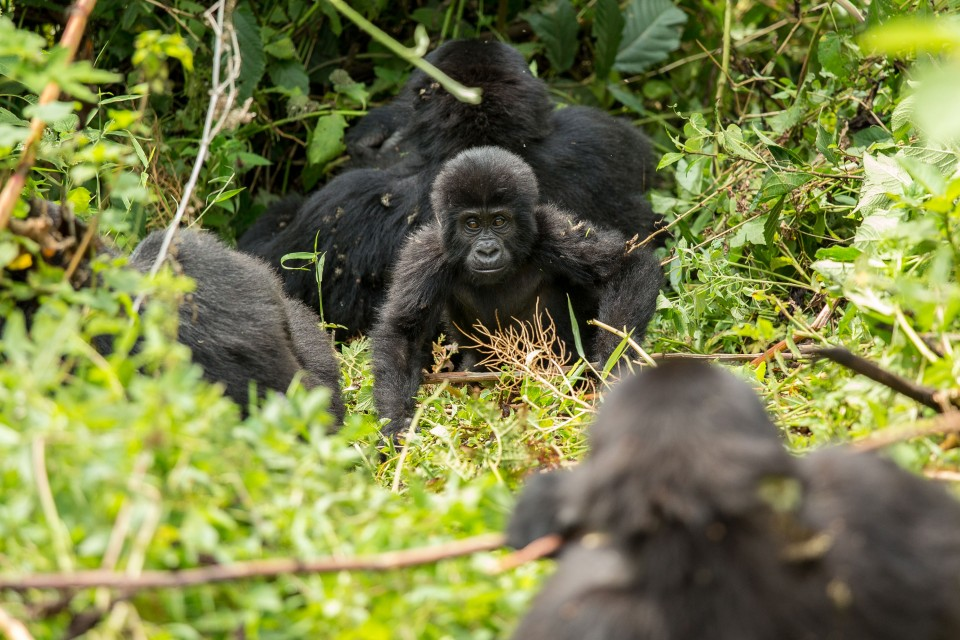Goriila: (374, 139, 669, 404)
